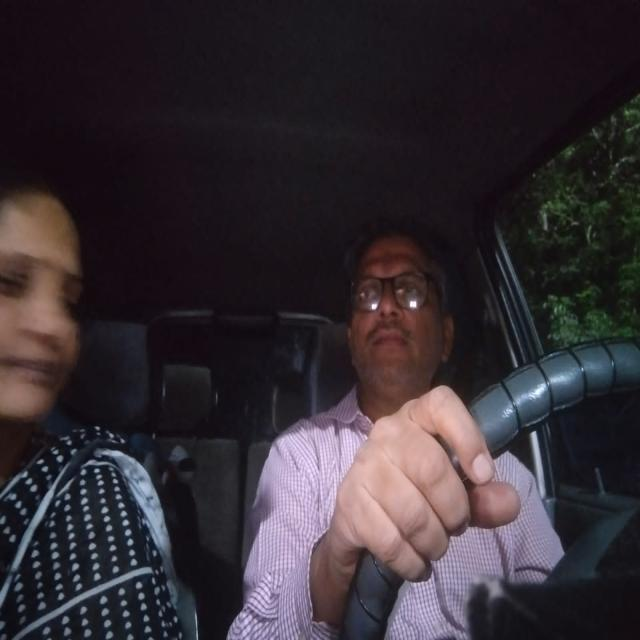person: (0, 168, 106, 444), (336, 206, 475, 414)
